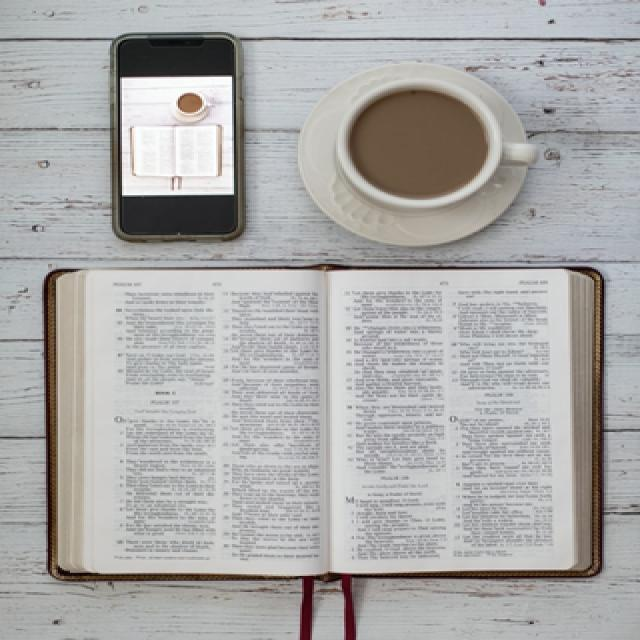cellphone: (108, 30, 244, 242)
